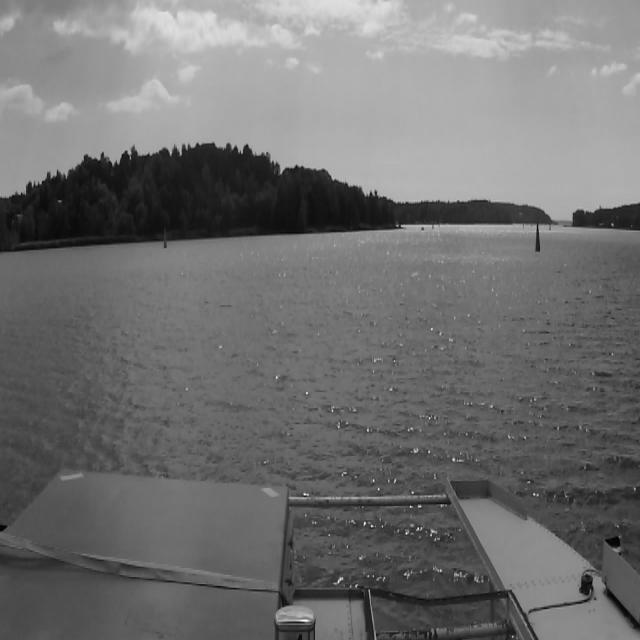buoy: (533, 214, 541, 255), (164, 226, 166, 250)
